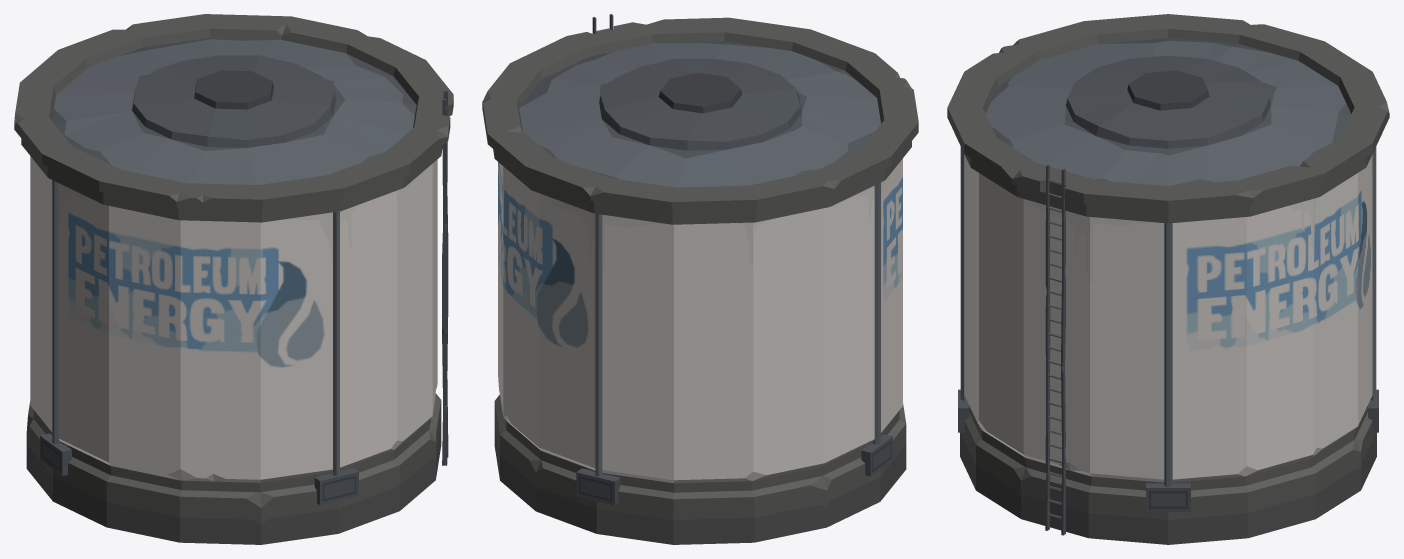
File: SM_Bld_GasTower_02.glb
3 views of the same model, side by side, from view 1: azimuth 30°, elevation 25°; view 2: azimuth 150°, elevation 25°; view 3: azimuth 270°, elevation 25° (orthographic).
Visible parts, largest first — view 1: SM_Bld_GasTower_02; view 2: SM_Bld_GasTower_02; view 3: SM_Bld_GasTower_02.
Part boxes in pixels (x1,y1,x2,y2): SM_Bld_GasTower_02: (14,14,453,544); SM_Bld_GasTower_02: (482,14,918,544); SM_Bld_GasTower_02: (947,14,1389,544).
Bounding box in the file's own units: 14.37 × 13.26 × 14.37.
1 material, 1 textured.
